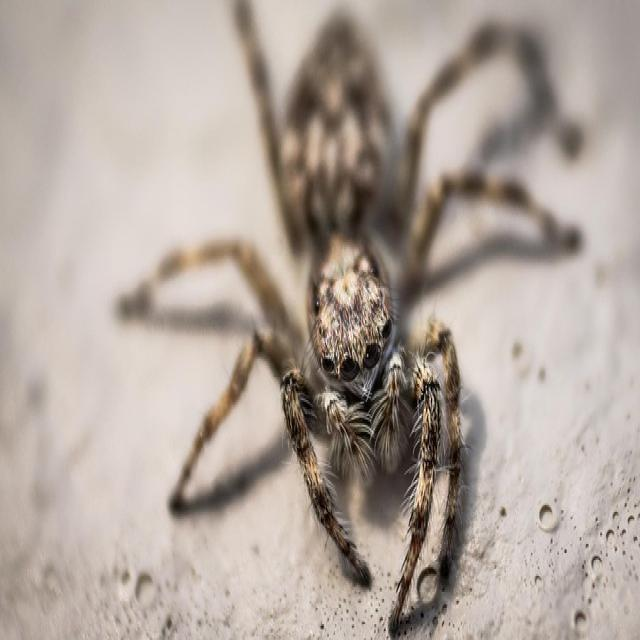spyder: (116, 0, 562, 638)
